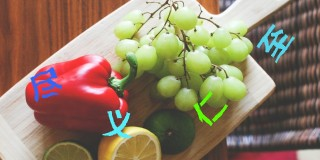义: (101, 110, 133, 138)
仁: (193, 90, 229, 126)
尽: (30, 67, 63, 102)
至: (256, 24, 295, 63)
